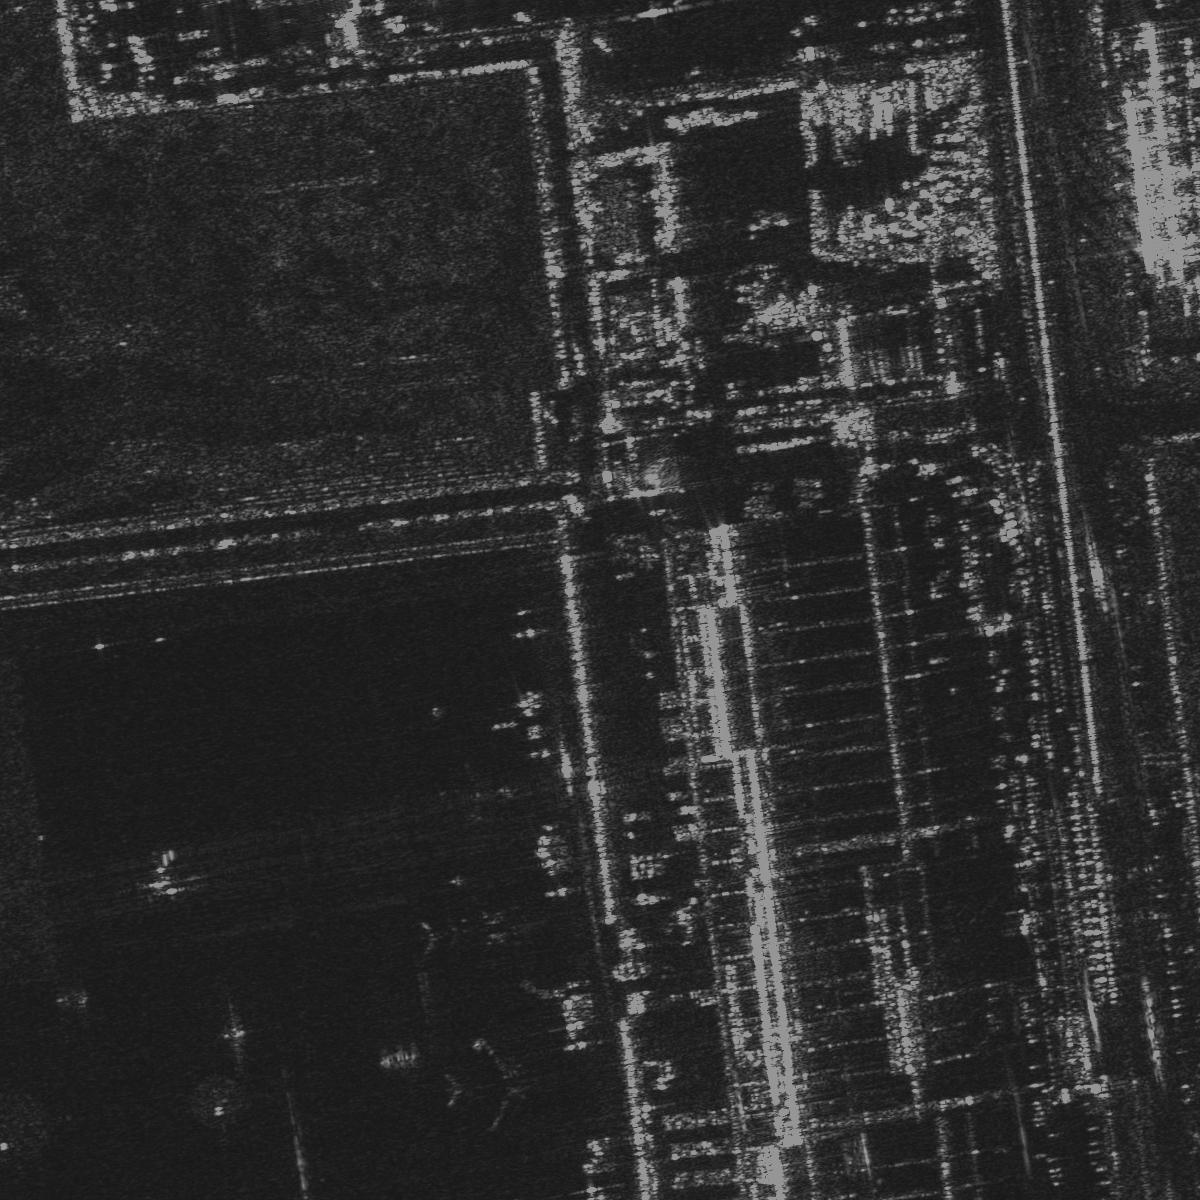Boeing787: (445, 1036, 552, 1135), (427, 880, 526, 964)
other: (433, 762, 516, 827), (138, 849, 197, 903)
